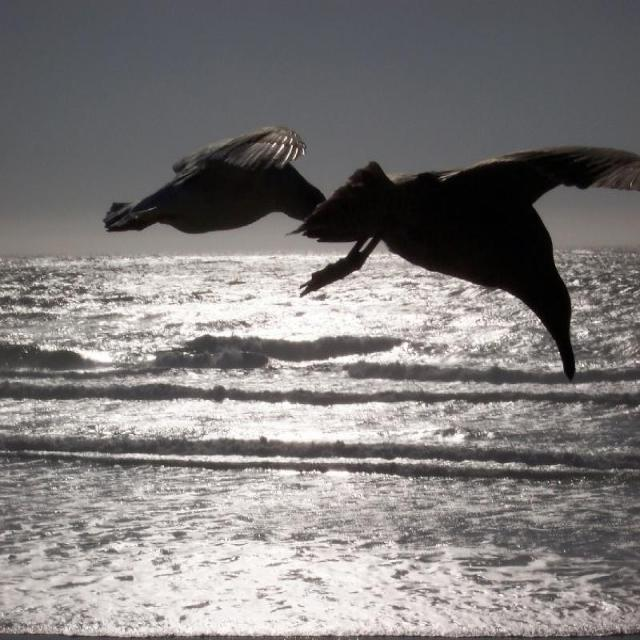bird: (97, 100, 640, 381)
